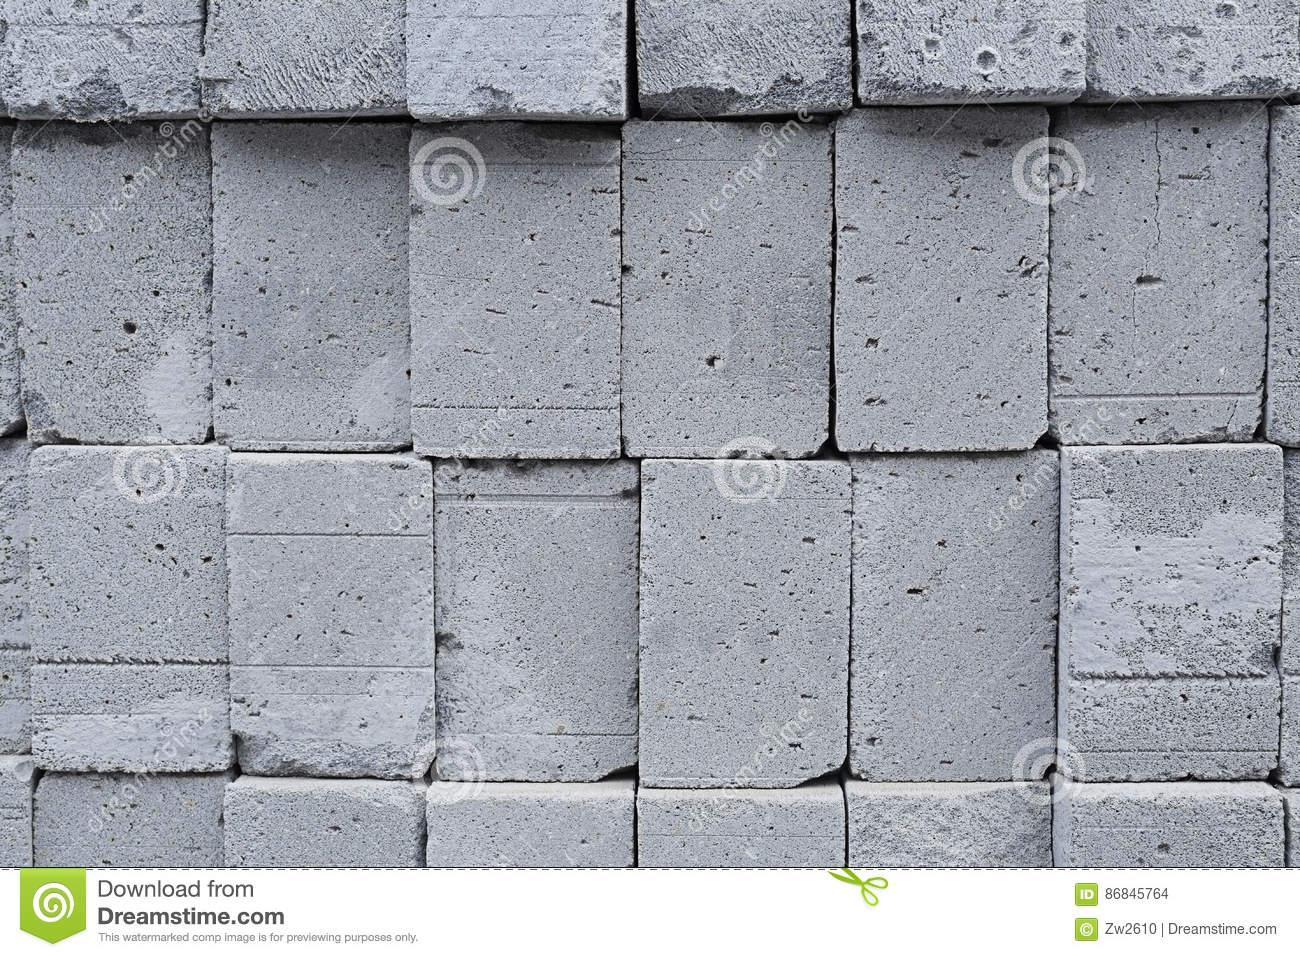brick: (1063, 445, 1285, 781), (1048, 103, 1264, 442), (838, 110, 1046, 451), (413, 126, 627, 455), (639, 456, 850, 786), (626, 122, 832, 456), (854, 455, 1060, 781), (227, 453, 432, 778), (212, 122, 416, 446), (436, 460, 639, 780), (27, 445, 224, 768), (12, 125, 212, 442)
